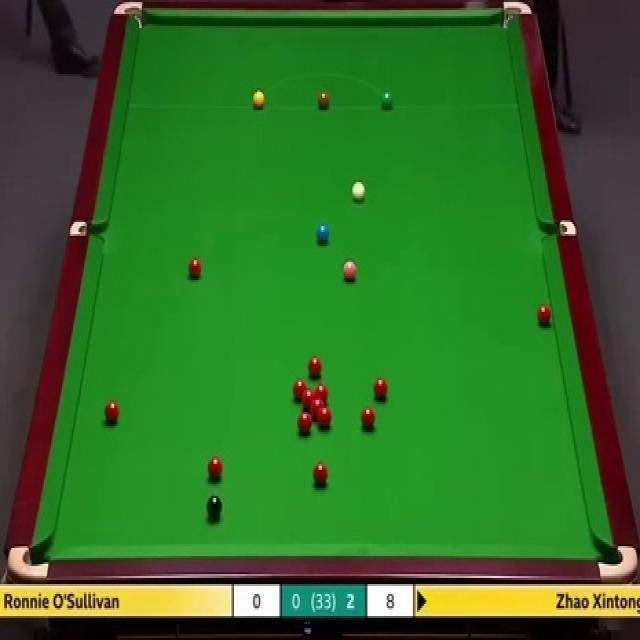black-ball: (207, 496, 223, 523)
blue-ball: (316, 222, 330, 245)
brown-ball: (318, 88, 330, 110)
green-ball: (380, 92, 393, 111)
pink-ball: (343, 260, 357, 281)
red-ball: (372, 375, 389, 403), (360, 406, 378, 432), (536, 302, 553, 328), (104, 398, 120, 425), (313, 461, 328, 487), (208, 456, 224, 480), (297, 411, 312, 436), (308, 356, 322, 380), (292, 378, 306, 402), (318, 406, 332, 429), (188, 257, 202, 278), (302, 389, 315, 408), (316, 384, 328, 404), (311, 399, 324, 417)
white-ball: (349, 176, 368, 208)
yellow-ball: (252, 90, 265, 111)
